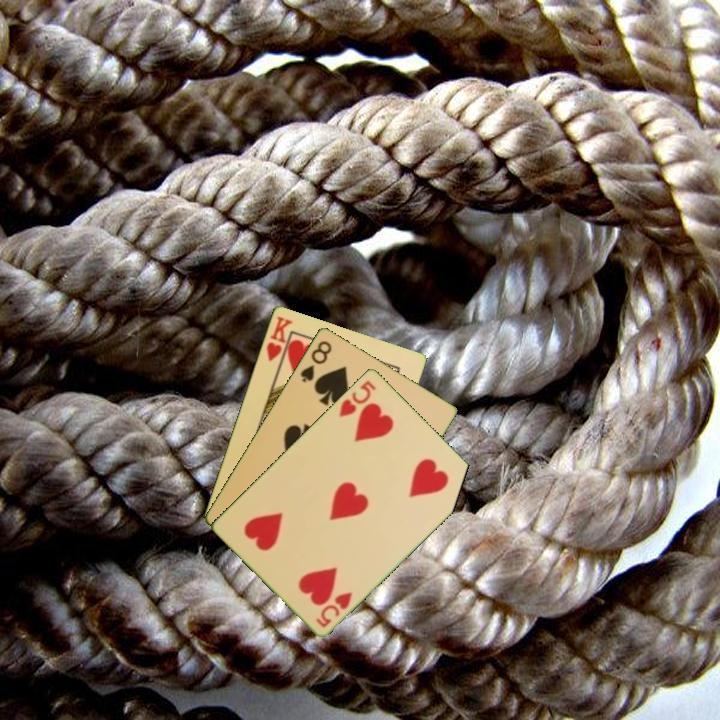5h: (335, 376, 379, 420), (313, 588, 355, 630)
8s: (297, 337, 335, 385)
Kh: (263, 312, 295, 370)
